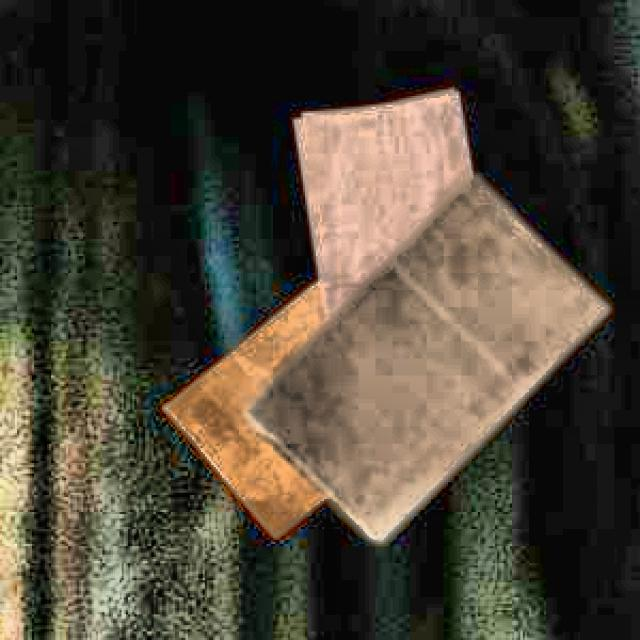Paper-bag: (253, 171, 620, 551), (156, 242, 457, 548), (279, 78, 507, 374)
